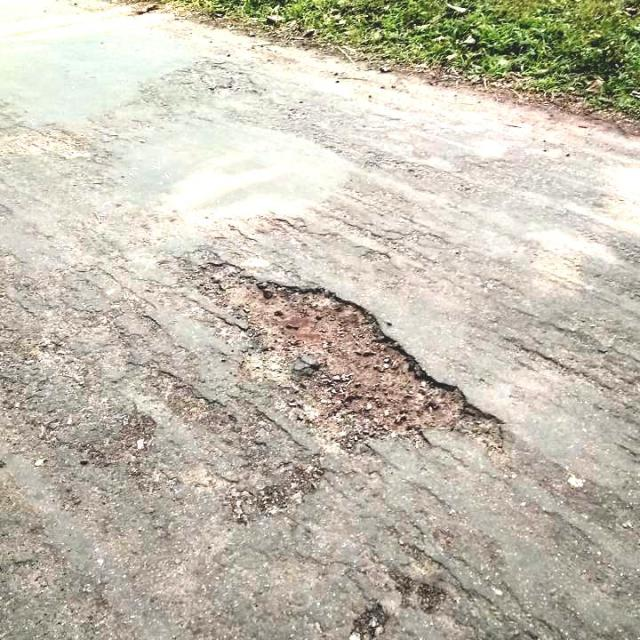pothole: (188, 258, 512, 464), (148, 54, 244, 102)
